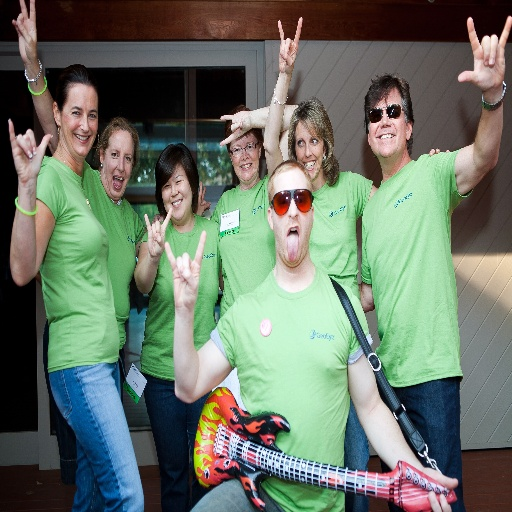hand: (163, 228, 207, 309), (473, 5, 509, 97), (6, 115, 52, 186), (417, 464, 458, 511), (142, 205, 174, 262), (11, 0, 37, 64), (277, 15, 302, 76), (218, 108, 250, 148), (196, 180, 212, 218), (427, 146, 451, 157)
